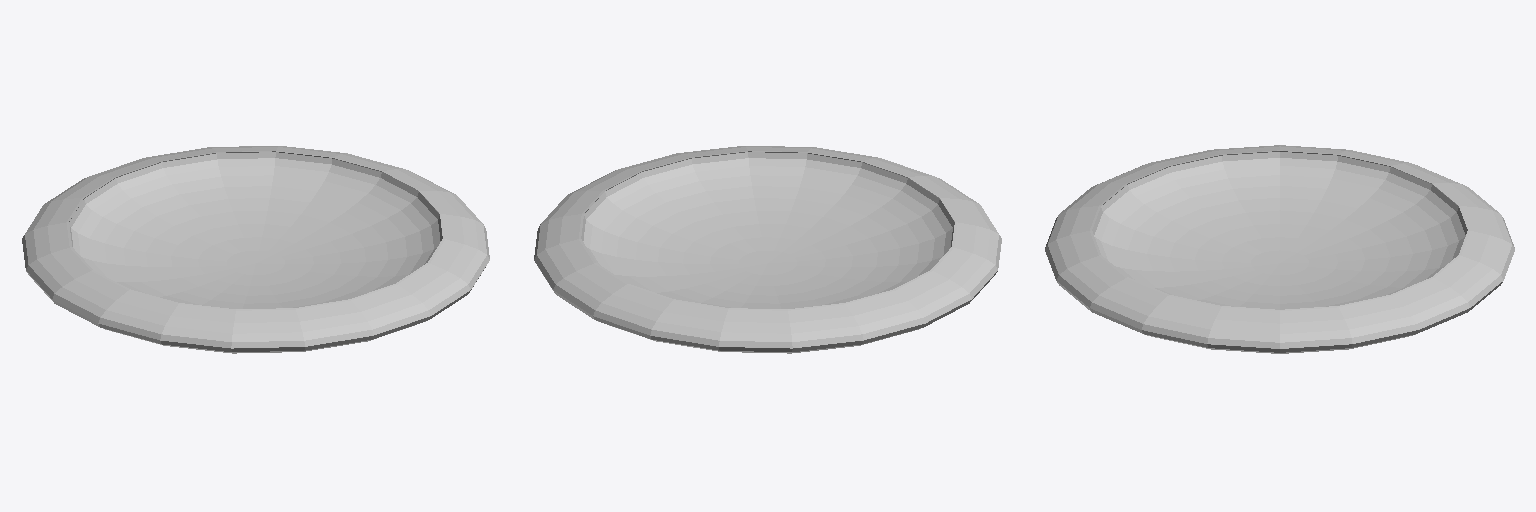
The model's file is mothership.obj.
3 views of the same model, side by side, from view 1: azimuth 30°, elevation 25°; view 2: azimuth 150°, elevation 25°; view 3: azimuth 270°, elevation 25° (orthographic).
Visible parts, largest first — view 1: pSphere5; view 2: pSphere5; view 3: pSphere5.
Boxes of the visible parts, box(x1,y1,x2,y2) form: pSphere5: box(22, 146, 489, 353); pSphere5: box(534, 146, 1001, 353); pSphere5: box(1045, 145, 1514, 353).
Bounding box in the file's own units: 20 × 2.4 × 20.